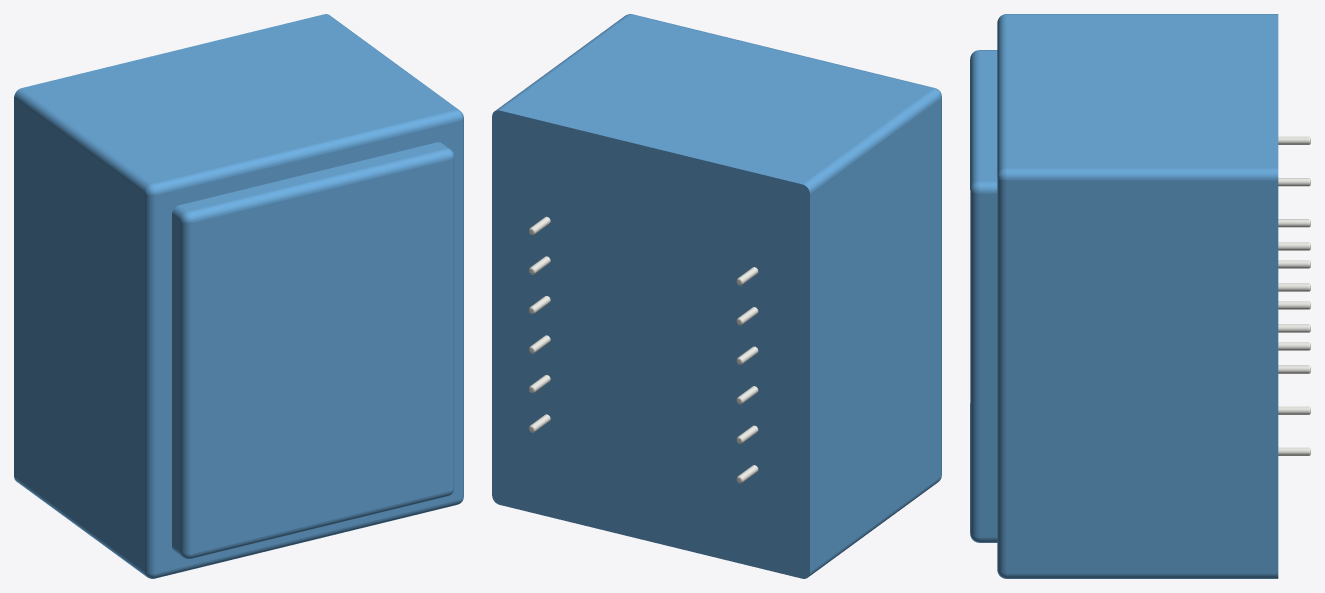
Rendered from Transformer_CHK_EI48-8VA_1xSec.glb.
3 renders of one model, left to right at view 1: azimuth 30°, elevation 25°; view 2: azimuth 150°, elevation 25°; view 3: azimuth 270°, elevation 25°, orthographic. The views are drawn at different scales.
Visible parts, largest first — view 1: Shape_IndexedFaceSet.051, Shape_IndexedFaceSet.077, Shape_IndexedFaceSet.074, Shape_IndexedFaceSet.055, Shape_IndexedFaceSet.064, Shape_IndexedFaceSet.058, Shape_IndexedFaceSet.062, Shape_IndexedFaceSet.057, Shape_IndexedFaceSet.065, Shape_IndexedFaceSet.067, Shape_IndexedFaceSet.081, Shape_IndexedFaceSet.061 (+3 smaller); view 2: Shape_IndexedFaceSet.080, Shape_IndexedFaceSet.077, Shape_IndexedFaceSet.074, Shape_IndexedFaceSet.081, Shape_IndexedFaceSet.064; view 3: Shape_IndexedFaceSet.071, Shape_IndexedFaceSet.074, Shape_IndexedFaceSet.060, Shape_IndexedFaceSet.061, Shape_IndexedFaceSet.078, Shape_IndexedFaceSet.053, Shape_IndexedFaceSet.067, Shape_IndexedFaceSet.079, Shape_IndexedFaceSet.062, Shape_IndexedFaceSet.057.
Boxes of the visible parts, x1,y1,x2,y2 form: Shape_IndexedFaceSet.051: (192,160,449,553); Shape_IndexedFaceSet.077: (14,98,144,571); Shape_IndexedFaceSet.074: (22,14,454,183); Shape_IndexedFaceSet.055: (156,121,459,573); Shape_IndexedFaceSet.064: (145,194,156,573); Shape_IndexedFaceSet.058: (180,221,192,554); Shape_IndexedFaceSet.062: (152,110,459,194); Shape_IndexedFaceSet.057: (188,149,449,222); Shape_IndexedFaceSet.065: (172,215,180,552); Shape_IndexedFaceSet.067: (179,142,445,211); Shape_IndexedFaceSet.081: (14,88,151,193); Shape_IndexedFaceSet.061: (459,118,463,499); Shape_IndexedFaceSet.080: (492,110,809,578); Shape_IndexedFaceSet.077: (810,99,940,572); Shape_IndexedFaceSet.074: (500,15,932,184); Shape_IndexedFaceSet.081: (802,88,940,193); Shape_IndexedFaceSet.064: (940,97,941,476); Shape_IndexedFaceSet.071: (1006,180,1278,573); Shape_IndexedFaceSet.074: (1006,15,1278,168); Shape_IndexedFaceSet.060: (979,193,997,537); Shape_IndexedFaceSet.061: (997,177,1006,573); Shape_IndexedFaceSet.078: (1006,168,1278,180); Shape_IndexedFaceSet.053: (970,191,979,537); Shape_IndexedFaceSet.067: (979,51,997,181); Shape_IndexedFaceSet.079: (1006,573,1278,578); Shape_IndexedFaceSet.062: (997,15,1006,174); Shape_IndexedFaceSet.057: (970,51,979,189).
Bounding box in the file's own units: 16.58 × 19.65 × 14.8.
